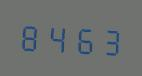eight: (18, 17, 43, 54)
four: (44, 18, 69, 55)
six: (70, 20, 95, 57)
three: (96, 21, 121, 58)
